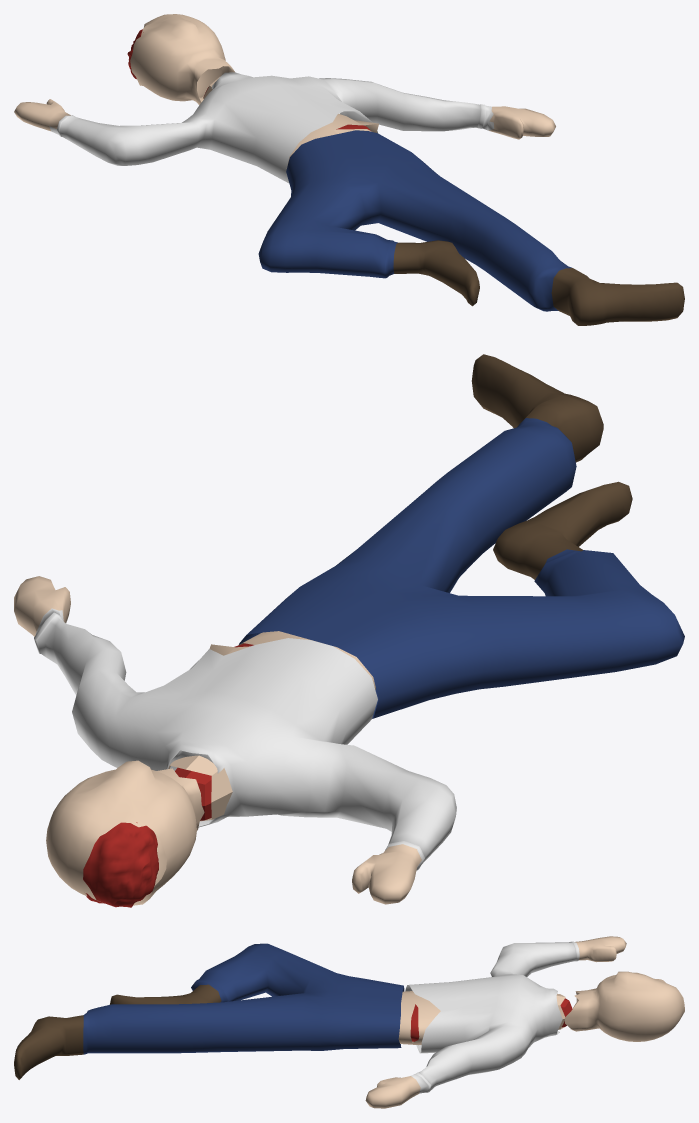
Rendered from lvl 3 husband.fbx.
3 renders of one model, top to bottom at view 1: azimuth 30°, elevation 25°; view 2: azimuth 150°, elevation 25°; view 3: azimuth 270°, elevation 25°, orthographic. The views are drawn at different scales.
Parts seen in each view (by area): view 1: Cube.002; view 2: Cube.002; view 3: Cube.002.
Boxes of the visible parts, x1,y1,x2,y2 form: Cube.002: (14,14,684,325); Cube.002: (14,354,684,907); Cube.002: (14,936,684,1108).
Bounding box in the file's own units: 498 × 94.48 × 875.
